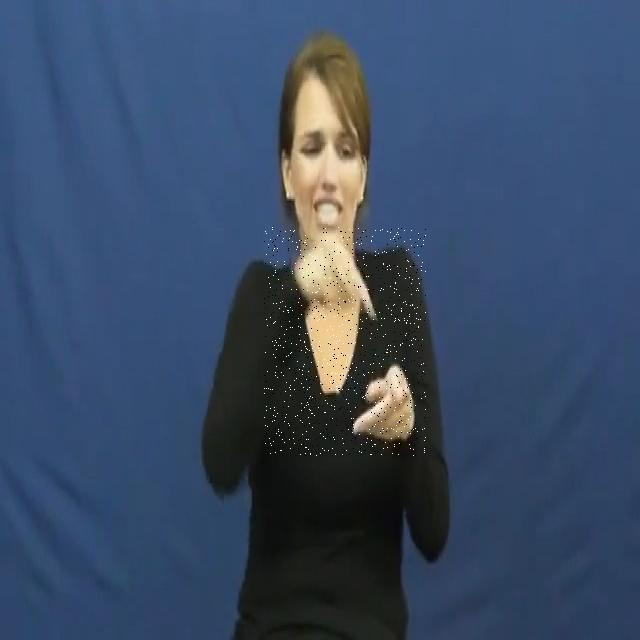lactose: (264, 227, 426, 456)
